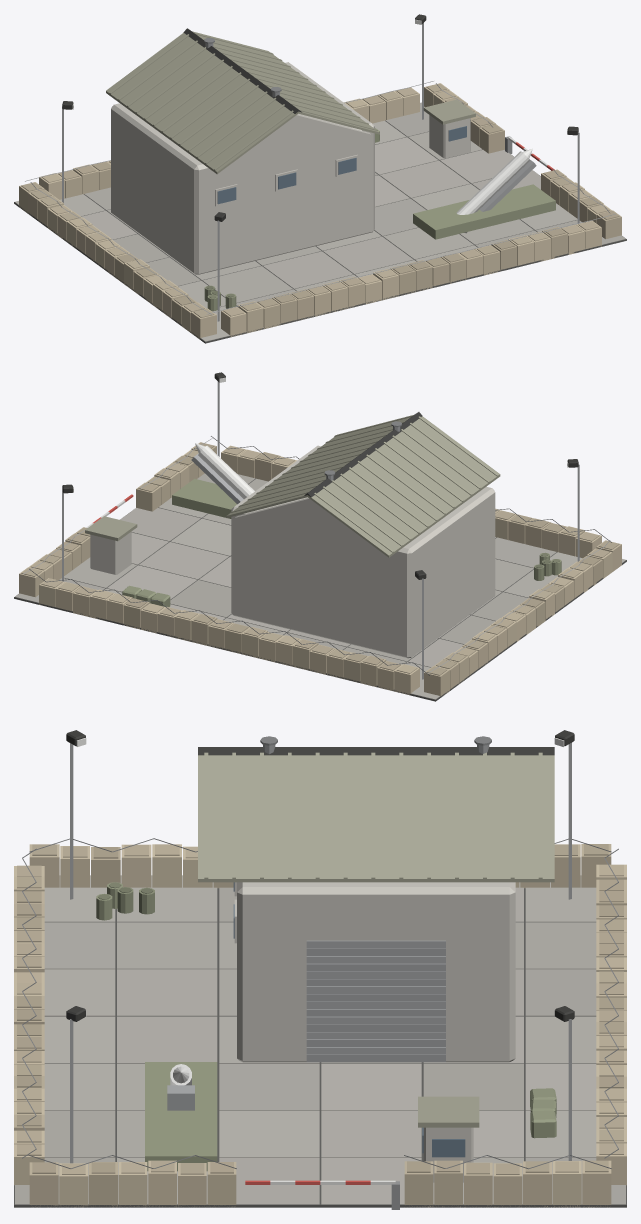
The model's file is b_ssmshop.glb.
3 views of the same model, one above another, from view 1: azimuth 30°, elevation 25°; view 2: azimuth 150°, elevation 25°; view 3: azimuth 270°, elevation 25° (orthographic). The views are drawn at different scales.
Parts seen in each view (by area): view 1: hull; view 2: hull; view 3: hull.
Boxes of the visible parts, x1,y1,x2,y2 form: hull: (14, 14, 626, 343); hull: (14, 372, 626, 701); hull: (14, 730, 626, 1209).
Bounding box in the file's own units: 28.2 × 11.16 × 22.
